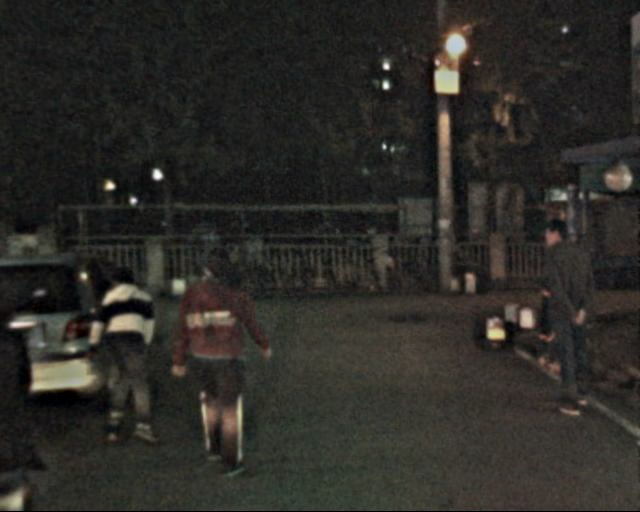person: (167, 243, 260, 483), (532, 210, 608, 430), (1, 258, 61, 511), (91, 256, 170, 446)
